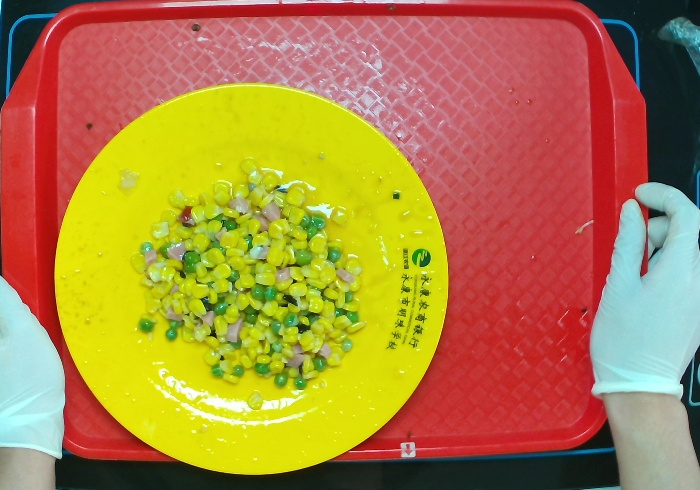YKMZ-Huang_Se_Mian_Pan: (51, 83, 451, 480)
